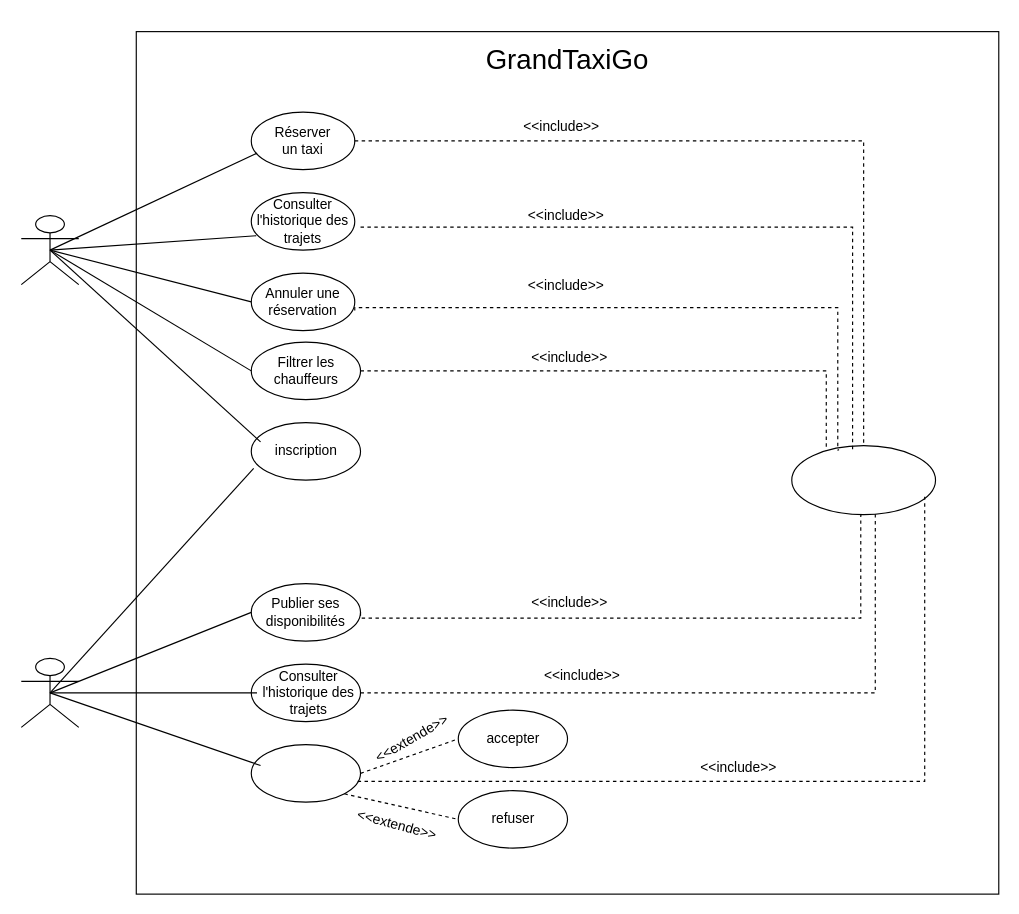
The diagram is 1019 pixels wide and 914 high, and some of its shapes have lost their labels. The shapes that lost their labels are listed below. From the top down, each one's box as (x1, y1, x2, y2) in pixels, then its label:
(20, 214, 79, 285): Passager
(791, 444, 936, 515): Authentifications
(20, 657, 79, 727): Chauffeur
(250, 743, 361, 802): gestion de reservation
